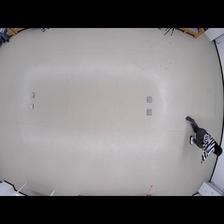fall: (184, 115, 224, 165)
